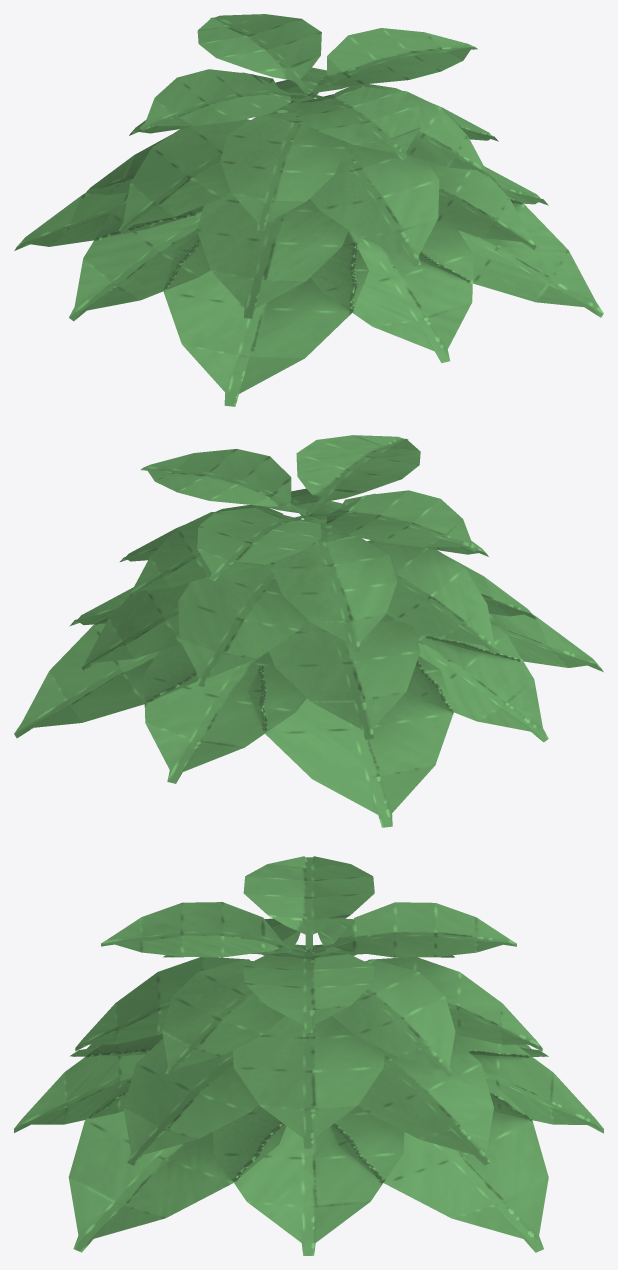
The model's file is test_Bush.fbx.
3 renders of one model, top to bottom at view 1: azimuth 30°, elevation 25°; view 2: azimuth 150°, elevation 25°; view 3: azimuth 270°, elevation 25°, orthographic. The views are drawn at different scales.
Parts seen in each view (by area): view 1: Arbusto_Pablo_1; view 2: Arbusto_Pablo_1; view 3: Arbusto_Pablo_1.
Part boxes in pixels (box(x1,y1,x2,y2)): Arbusto_Pablo_1: box(14, 14, 603, 406); Arbusto_Pablo_1: box(14, 435, 603, 827); Arbusto_Pablo_1: box(14, 856, 603, 1255).
Size of the model in its own units: 1314 by 549 by 1314.
